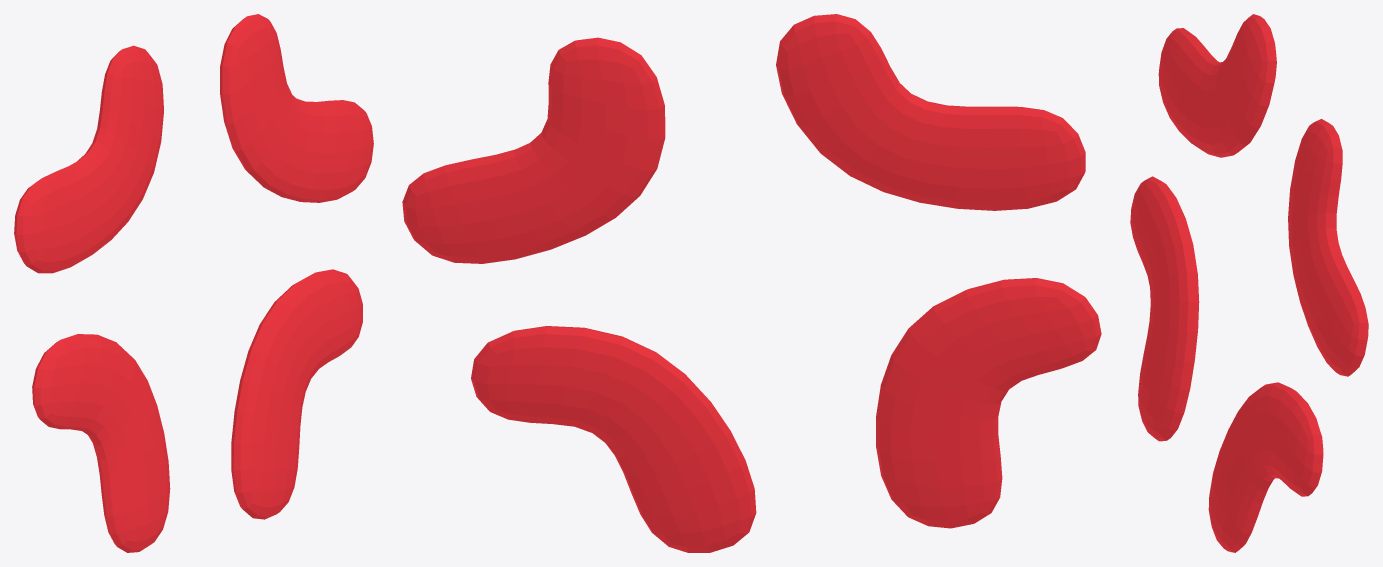
Rendered from accessory-angryeffect.glb.
3 views of the same model, side by side, from view 1: azimuth 30°, elevation 25°; view 2: azimuth 150°, elevation 25°; view 3: azimuth 270°, elevation 25° (orthographic). The views are drawn at different scales.
Parts seen in each view (by area): view 1: accessory__Plane_005__0; view 2: accessory__Plane_005__0; view 3: accessory__Plane_005__0.
Boxes of the visible parts, x1,y1,x2,y2 form: accessory__Plane_005__0: [14, 14, 373, 552]; accessory__Plane_005__0: [402, 14, 1101, 552]; accessory__Plane_005__0: [1130, 14, 1368, 552].
Size of the model in its own units: 0.1779 by 0.1811 by 0.0832.
